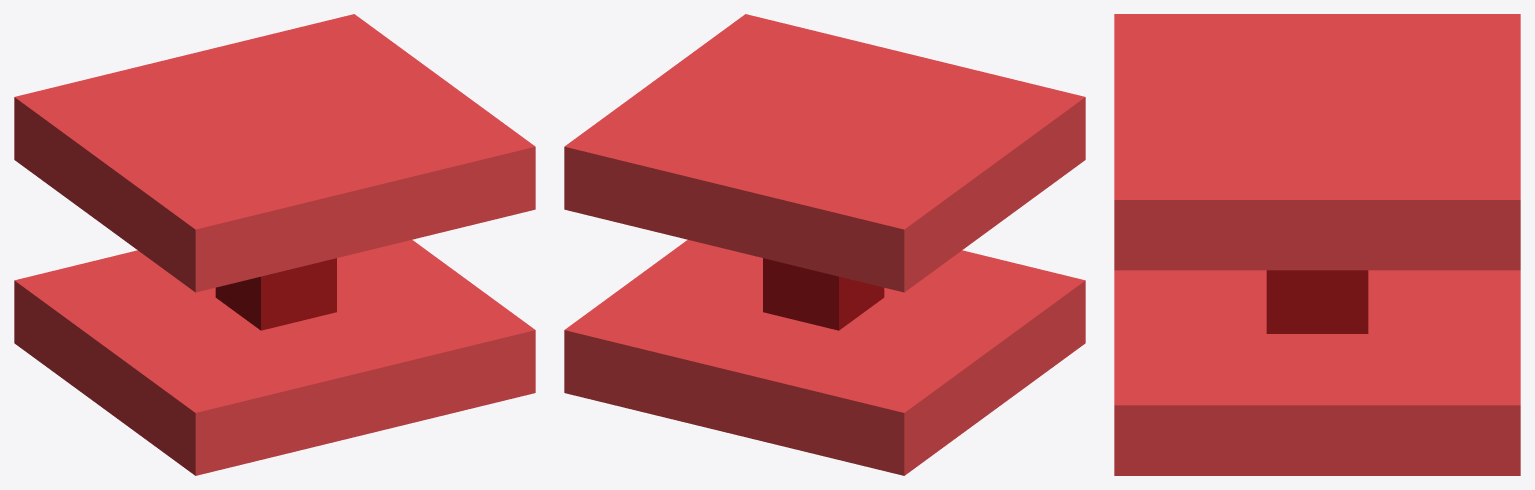
3 renders of one model, left to right at view 1: azimuth 30°, elevation 25°; view 2: azimuth 150°, elevation 25°; view 3: azimuth 270°, elevation 25°, orthographic. The views are drawn at different scales.
Parts seen in each view (by area): view 1: ss3d_65_security; view 2: ss3d_65_security; view 3: ss3d_65_security.
Boxes of the visible parts, <box> form: ss3d_65_security: <box>14,14,535,475</box>; ss3d_65_security: <box>564,14,1085,475</box>; ss3d_65_security: <box>1114,14,1520,475</box>.
Size of the model in its own units: 1.02 by 0.7031 by 0.9375.
Materials: 1 (1 with a texture image).
